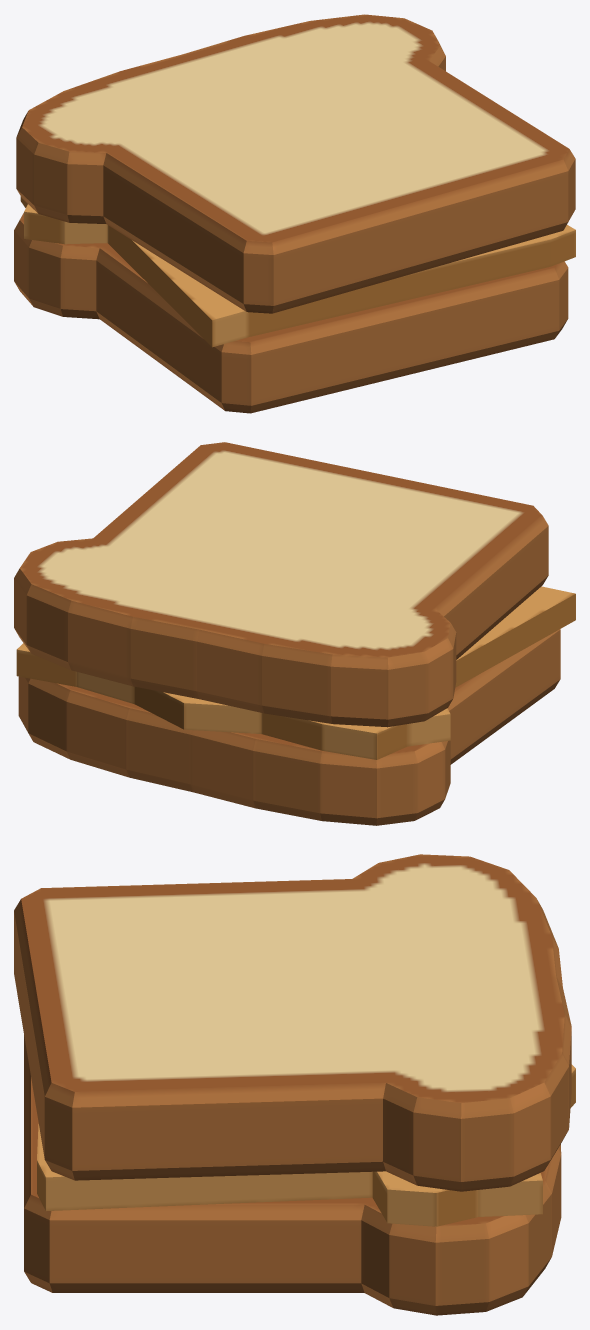
Rendered from PeanutButterSandwich.fbx.
3 views of the same model, one above another, from view 1: azimuth 30°, elevation 25°; view 2: azimuth 150°, elevation 25°; view 3: azimuth 270°, elevation 25° (orthographic). The views are drawn at different scales.
Parts seen in each view (by area): view 1: PeanutButterSandwich; view 2: PeanutButterSandwich; view 3: PeanutButterSandwich.
Part boxes in pixels (bbox=[...]): PeanutButterSandwich: bbox=[14, 14, 575, 413]; PeanutButterSandwich: bbox=[14, 442, 575, 825]; PeanutButterSandwich: bbox=[14, 854, 575, 1315].
Size of the model in its own units: 263 by 100 by 242.
Materials: 1 (1 with a texture image).
